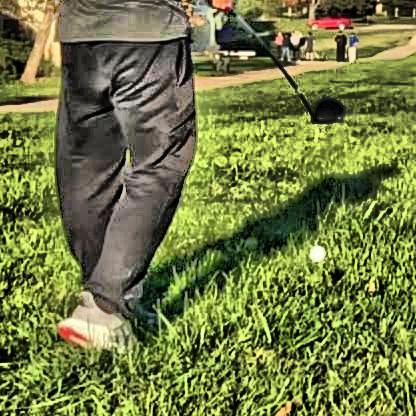golfball: (305, 241, 322, 258)
